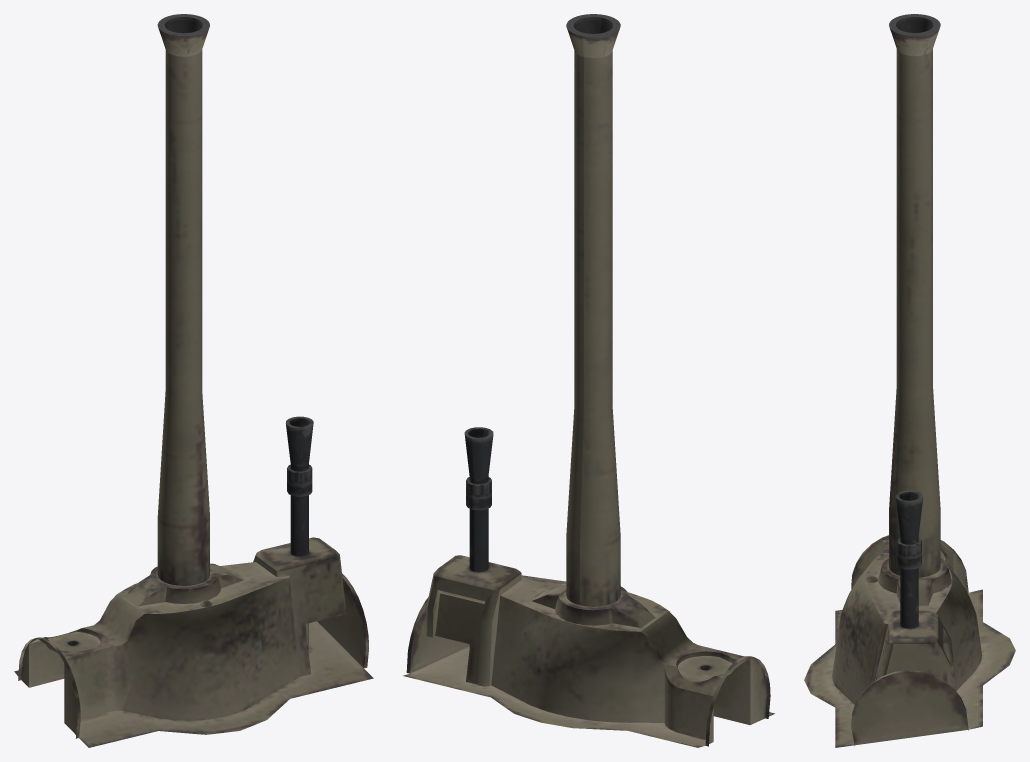
Rendered from Gun_01.glb.
3 views of the same model, side by side, from view 1: azimuth 30°, elevation 25°; view 2: azimuth 150°, elevation 25°; view 3: azimuth 270°, elevation 25° (orthographic). The views are drawn at different scales.
Parts seen in each view (by area): view 1: set_0_group_0; view 2: set_0_group_0; view 3: set_0_group_0.
Part boxes in pixels (<box>): set_0_group_0: <box>14,14,373,747</box>; set_0_group_0: <box>403,14,774,747</box>; set_0_group_0: <box>804,14,1015,747</box>.
Bounding box in the file's own units: 0.6936 × 1.51 × 0.4427.
Materials: 1 (1 with a texture image).
